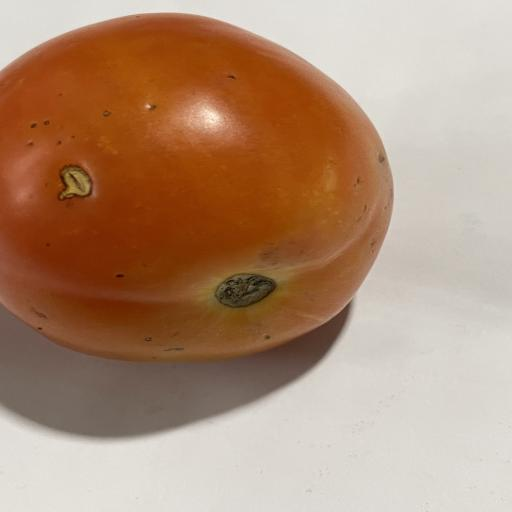ripe: (0, 13, 393, 362)
